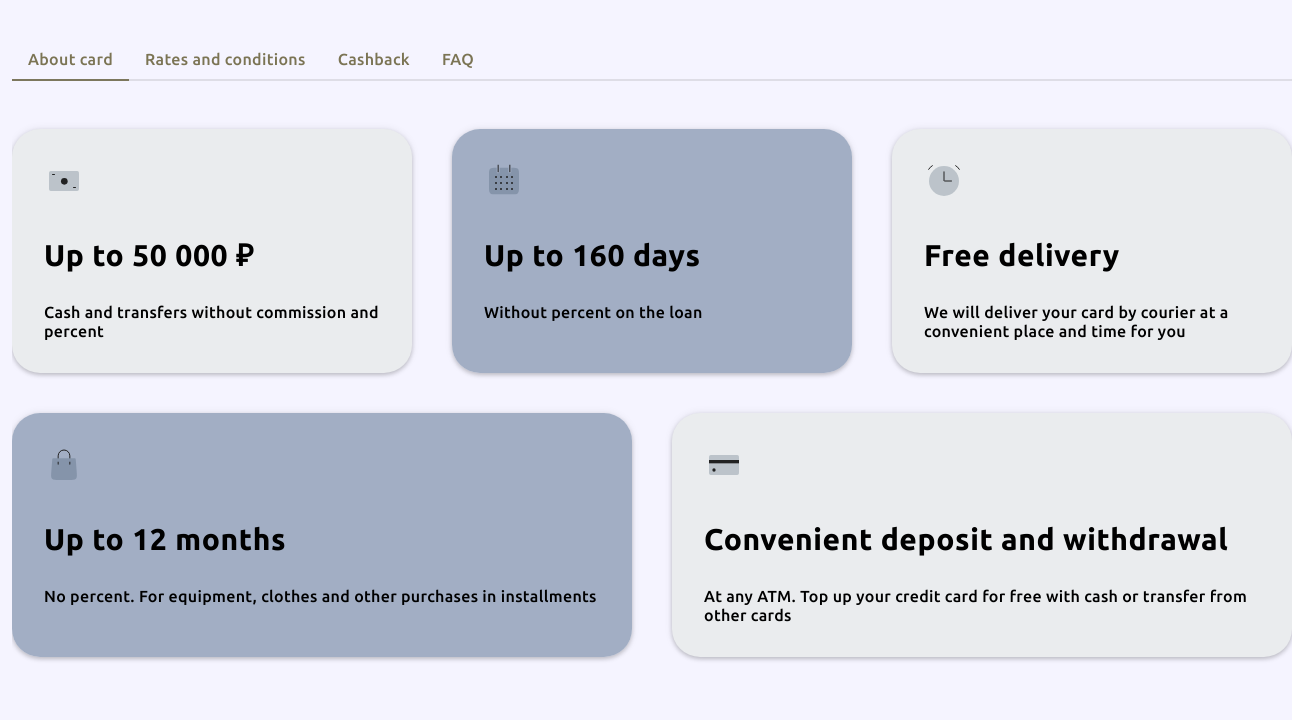
Test: Click on the tab
Click the button "Rates and conditions".
click(225, 66)  # box [129, 51, 322, 81]
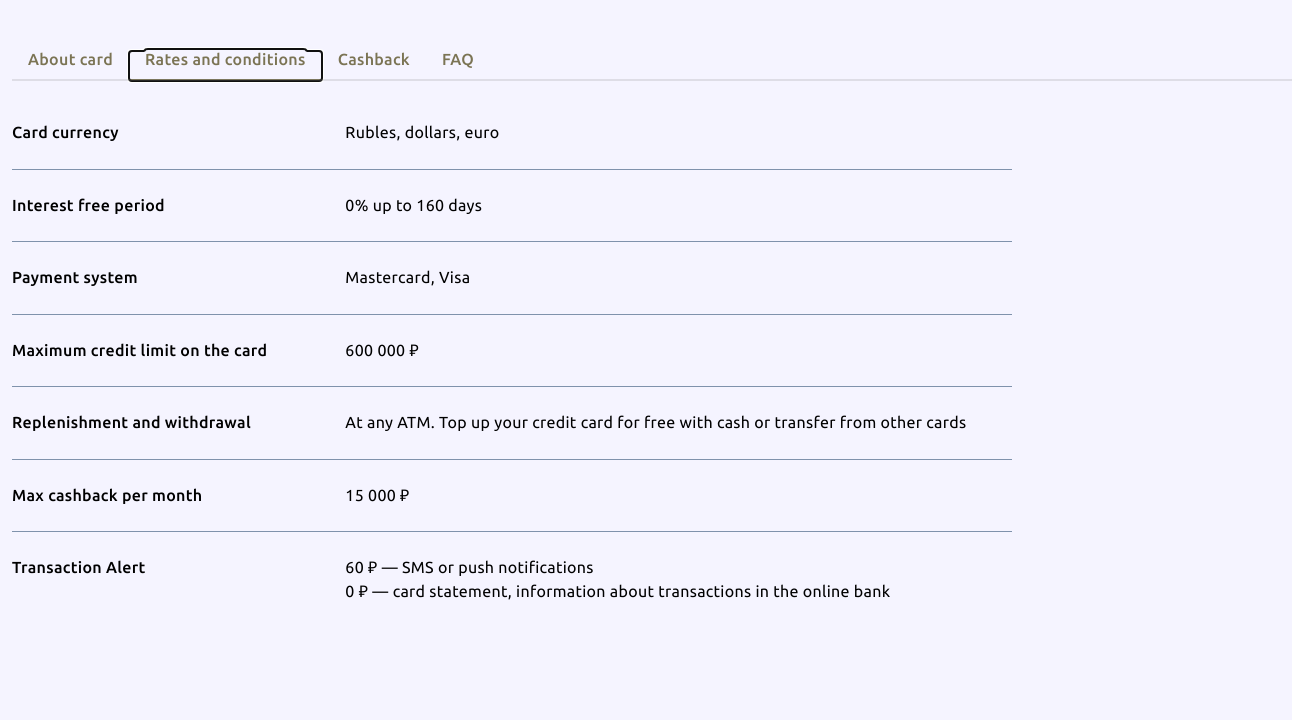
Now the text "Card currency" is shown, box [12, 97, 345, 169]
